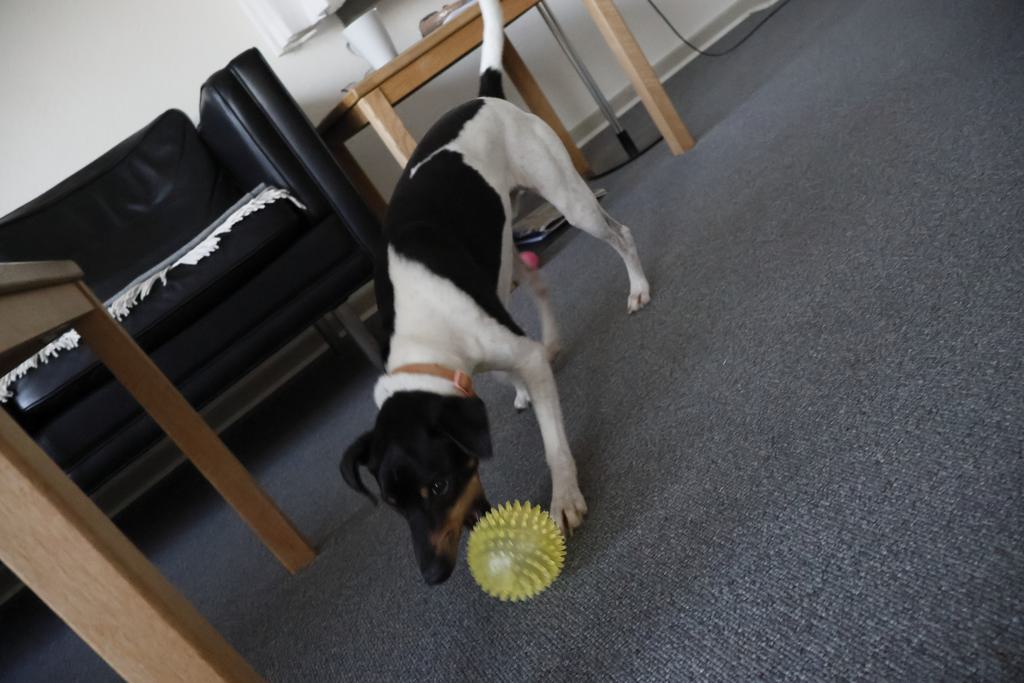Dog: (327, 0, 656, 599)
